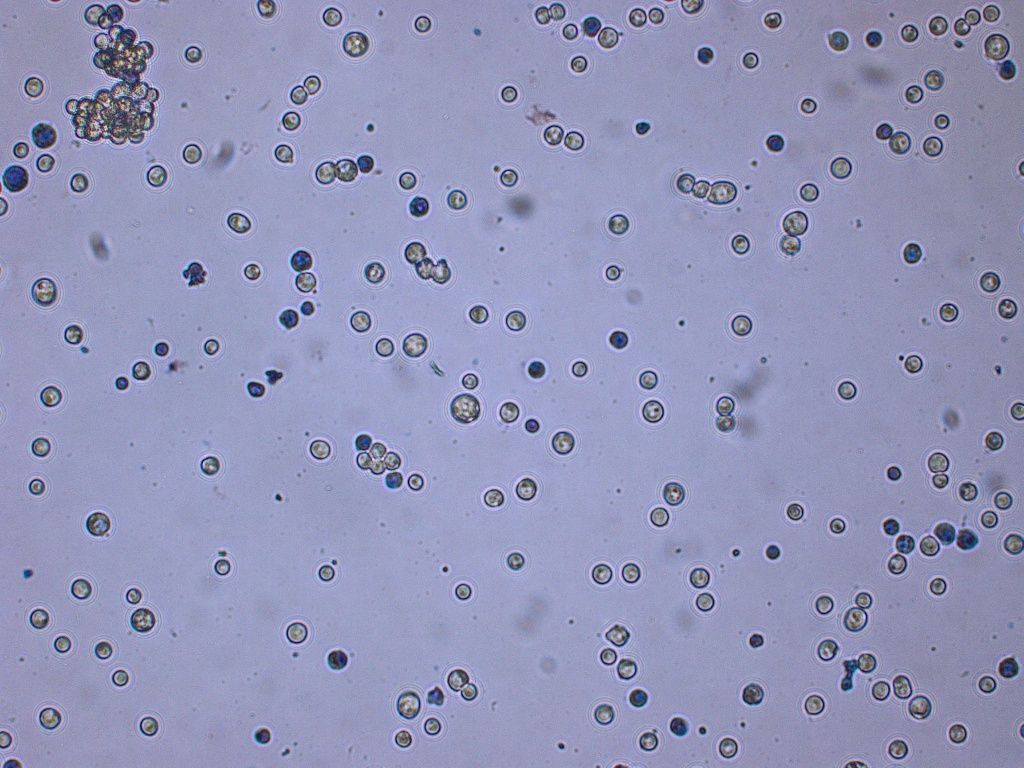dead: (3, 165, 30, 193), (31, 123, 56, 148), (956, 528, 979, 549), (291, 251, 312, 272), (903, 242, 923, 264), (936, 522, 955, 544), (583, 15, 601, 38), (327, 650, 348, 669), (896, 533, 914, 555), (629, 688, 648, 708), (609, 330, 629, 349), (279, 309, 299, 328), (426, 686, 444, 707), (843, 659, 856, 688), (999, 658, 1017, 678), (670, 716, 687, 737), (985, 430, 1002, 451), (411, 196, 429, 215), (999, 60, 1016, 80), (829, 32, 847, 50), (766, 134, 785, 151), (104, 4, 123, 21), (527, 361, 546, 377), (882, 519, 899, 536), (865, 30, 881, 48), (697, 46, 713, 64), (360, 154, 374, 174), (875, 122, 891, 139), (385, 473, 402, 489), (265, 369, 284, 383), (355, 434, 371, 449), (254, 727, 270, 742), (248, 381, 264, 396), (765, 544, 780, 559), (749, 633, 764, 648), (302, 300, 316, 315), (116, 376, 129, 391), (887, 467, 901, 480), (155, 342, 169, 355), (524, 419, 539, 431), (2, 759, 22, 768), (636, 121, 649, 134)
live: (450, 393, 481, 424), (32, 278, 58, 306), (709, 180, 738, 204), (985, 33, 1011, 59), (844, 607, 869, 633), (783, 211, 808, 236), (402, 333, 427, 358), (396, 692, 420, 717), (552, 431, 576, 455), (345, 32, 370, 55), (909, 695, 931, 720), (87, 511, 109, 536), (642, 400, 665, 423), (892, 674, 913, 699), (226, 212, 251, 233), (504, 310, 527, 332), (606, 624, 630, 645), (336, 158, 357, 182), (39, 386, 61, 408), (403, 242, 426, 263), (616, 657, 637, 680), (731, 313, 751, 337), (891, 130, 911, 154), (663, 482, 684, 504), (805, 693, 826, 715), (831, 156, 852, 178), (608, 214, 629, 236), (350, 311, 371, 333), (927, 452, 950, 472), (38, 708, 61, 728), (649, 506, 670, 527), (364, 262, 385, 283), (595, 704, 616, 725), (147, 166, 168, 187), (1003, 533, 1023, 555), (779, 237, 801, 257), (544, 123, 564, 145), (718, 737, 738, 759), (31, 438, 53, 458), (71, 578, 91, 600), (484, 488, 505, 508), (887, 554, 907, 575), (819, 640, 839, 661), (563, 131, 584, 151), (310, 439, 331, 459), (63, 324, 84, 344), (743, 682, 763, 703), (516, 477, 535, 499), (929, 14, 948, 36), (199, 456, 221, 475), (317, 162, 336, 184), (715, 415, 738, 433), (498, 402, 518, 422), (182, 143, 202, 163), (981, 271, 1000, 292), (923, 137, 944, 156), (599, 26, 617, 48), (815, 595, 834, 615), (872, 680, 891, 700), (592, 565, 612, 584), (799, 183, 819, 202), (447, 670, 467, 689), (24, 76, 43, 96), (376, 337, 395, 357), (30, 609, 49, 629), (139, 715, 157, 736), (676, 173, 694, 194), (921, 534, 937, 557), (998, 299, 1017, 318), (786, 503, 805, 522), (288, 623, 307, 642), (394, 729, 413, 748), (275, 145, 294, 164), (639, 370, 657, 390), (731, 235, 751, 253), (899, 25, 919, 43), (501, 168, 519, 188), (432, 261, 450, 281), (639, 732, 659, 750), (322, 8, 342, 26), (84, 4, 102, 24), (889, 741, 910, 758), (468, 305, 489, 322), (295, 274, 316, 291), (940, 304, 959, 322), (448, 191, 467, 209), (35, 155, 54, 173), (716, 394, 733, 414), (994, 493, 1014, 510), (689, 570, 709, 587), (981, 510, 999, 528), (925, 70, 943, 88), (629, 8, 647, 26), (678, 1, 705, 13), (398, 171, 416, 189), (282, 112, 300, 130), (905, 86, 924, 103), (507, 553, 526, 570), (303, 75, 320, 94), (133, 362, 150, 381), (838, 380, 856, 397), (855, 591, 873, 608), (949, 725, 967, 742), (696, 594, 714, 611), (982, 4, 1000, 21), (424, 718, 442, 735), (960, 482, 976, 501), (623, 564, 639, 583), (763, 12, 782, 28), (414, 13, 430, 32), (257, 1, 276, 17), (54, 636, 73, 652), (860, 652, 875, 672), (95, 641, 112, 658), (598, 649, 616, 665), (462, 372, 479, 388), (905, 355, 921, 372), (929, 578, 946, 594), (979, 675, 995, 692), (954, 17, 970, 34), (742, 52, 759, 68), (647, 6, 664, 22), (462, 684, 478, 701), (244, 263, 261, 279), (28, 478, 44, 495), (829, 517, 847, 532), (694, 179, 709, 197), (72, 173, 87, 191), (571, 55, 587, 71), (534, 6, 550, 22), (801, 97, 816, 114), (502, 86, 519, 101), (407, 474, 424, 489), (319, 565, 336, 580), (291, 86, 306, 103), (185, 47, 202, 62), (933, 114, 951, 128), (551, 1, 565, 19), (572, 361, 587, 377), (606, 264, 621, 280), (456, 584, 472, 599), (204, 339, 219, 355), (125, 589, 141, 604), (215, 559, 229, 576), (965, 9, 980, 24), (1011, 402, 1024, 419), (563, 24, 577, 39), (112, 670, 128, 683), (1, 730, 12, 748), (15, 141, 27, 157), (934, 474, 946, 489)
